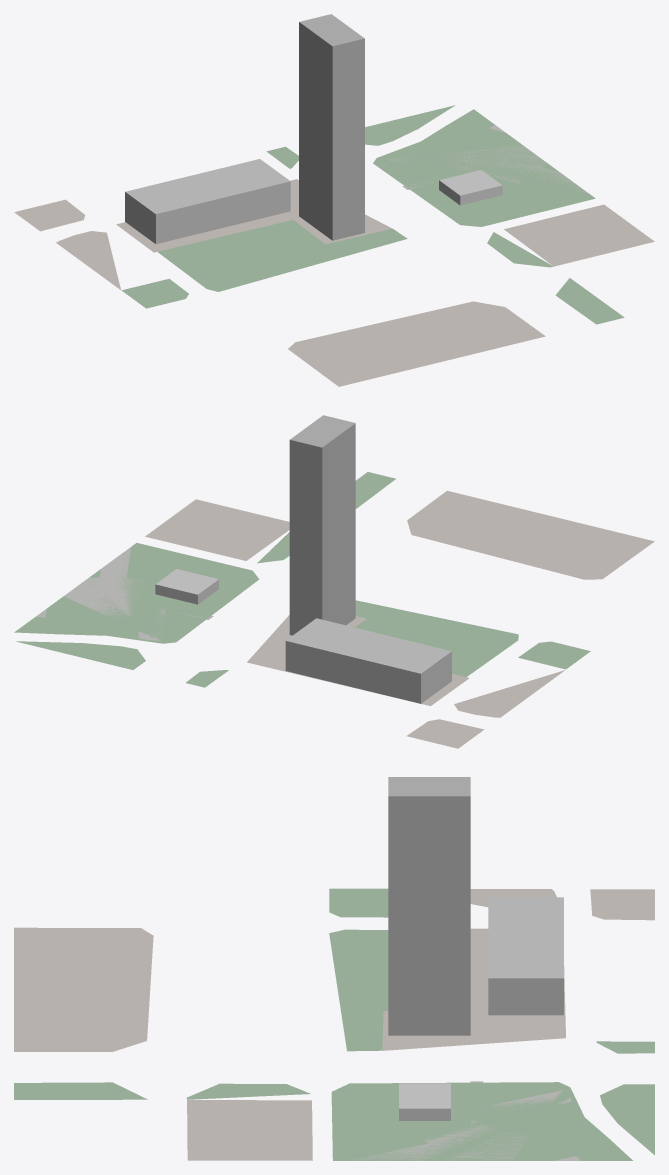
Rendered from 122_69_mid.glb.
3 views of the same model, one above another, from view 1: azimuth 30°, elevation 25°; view 2: azimuth 150°, elevation 25°; view 3: azimuth 270°, elevation 25° (orthographic). The views are drawn at different scales.
Bounding box in the file's own units: 500 × 206 × 500.
